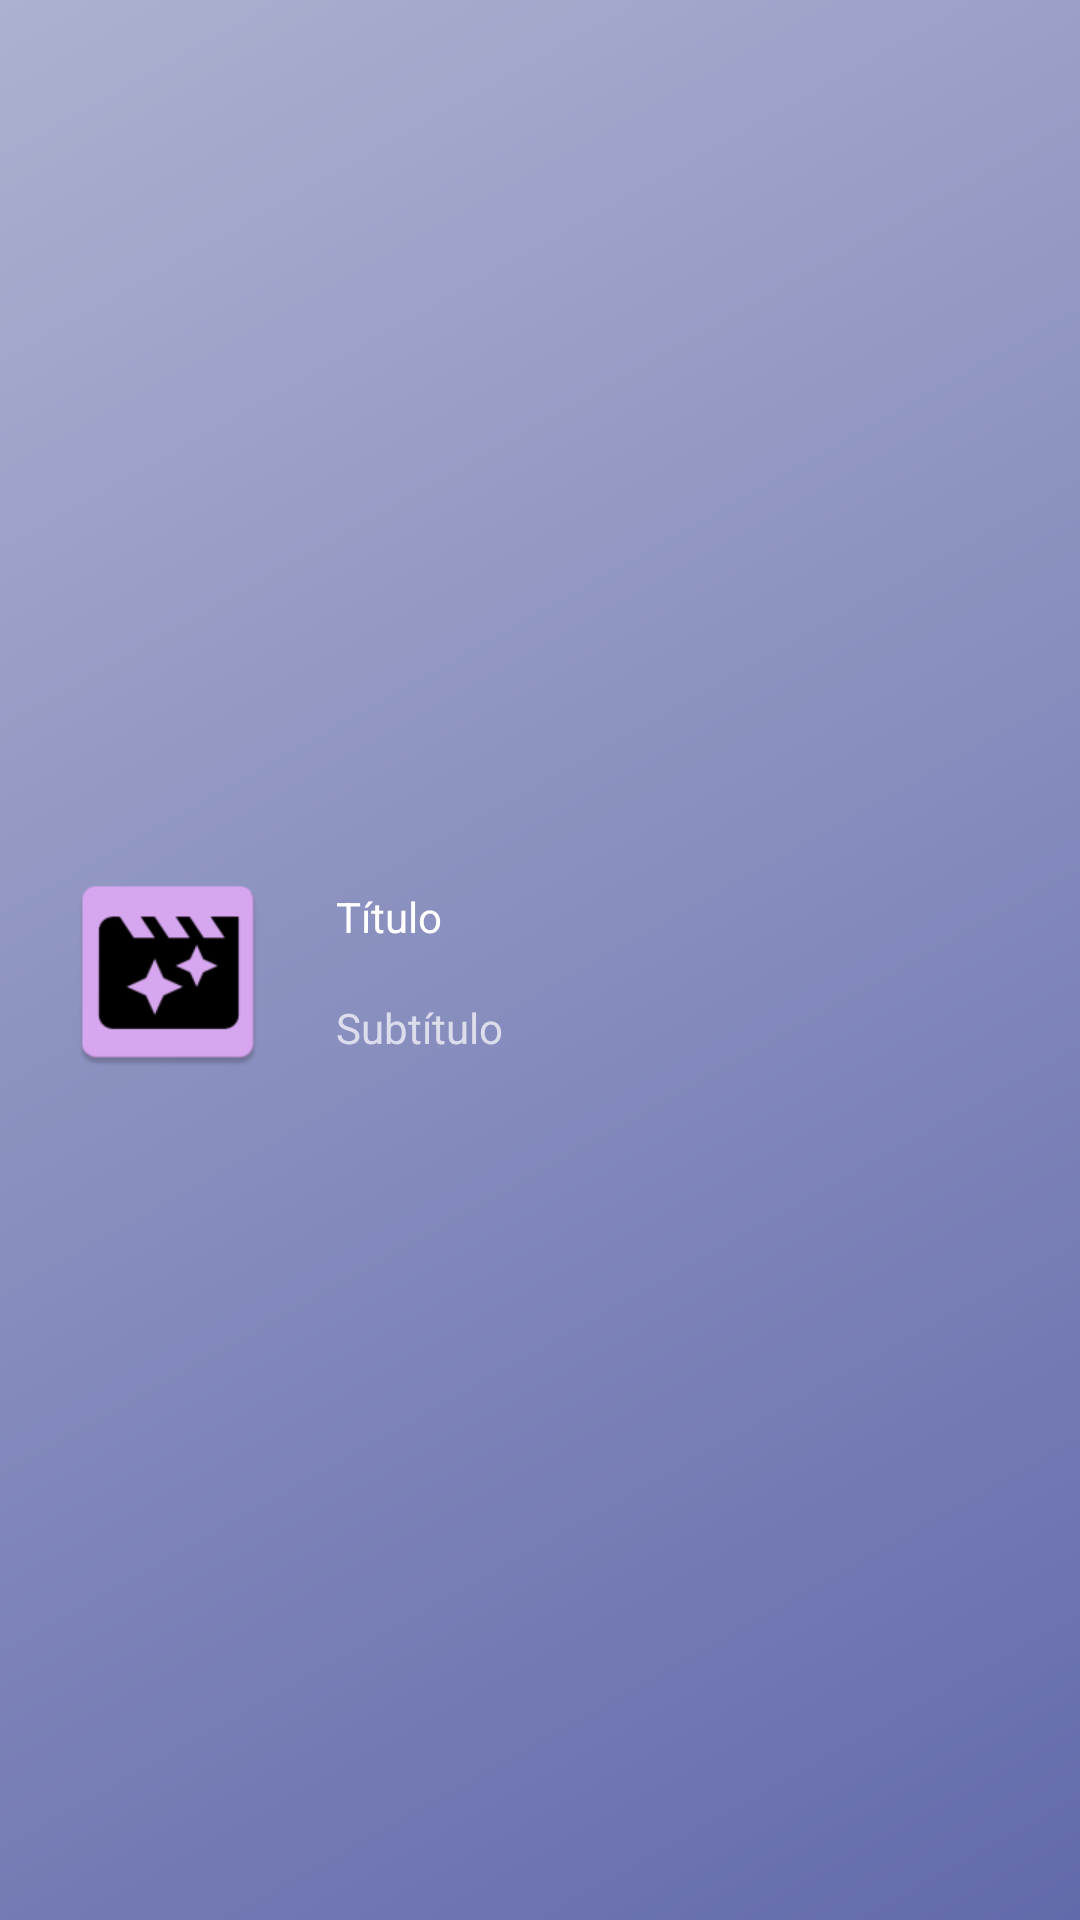

Icons on this 1080 × 1920 Android screen, each with the point to tap as [x,y]:
movies app: [167,974]
